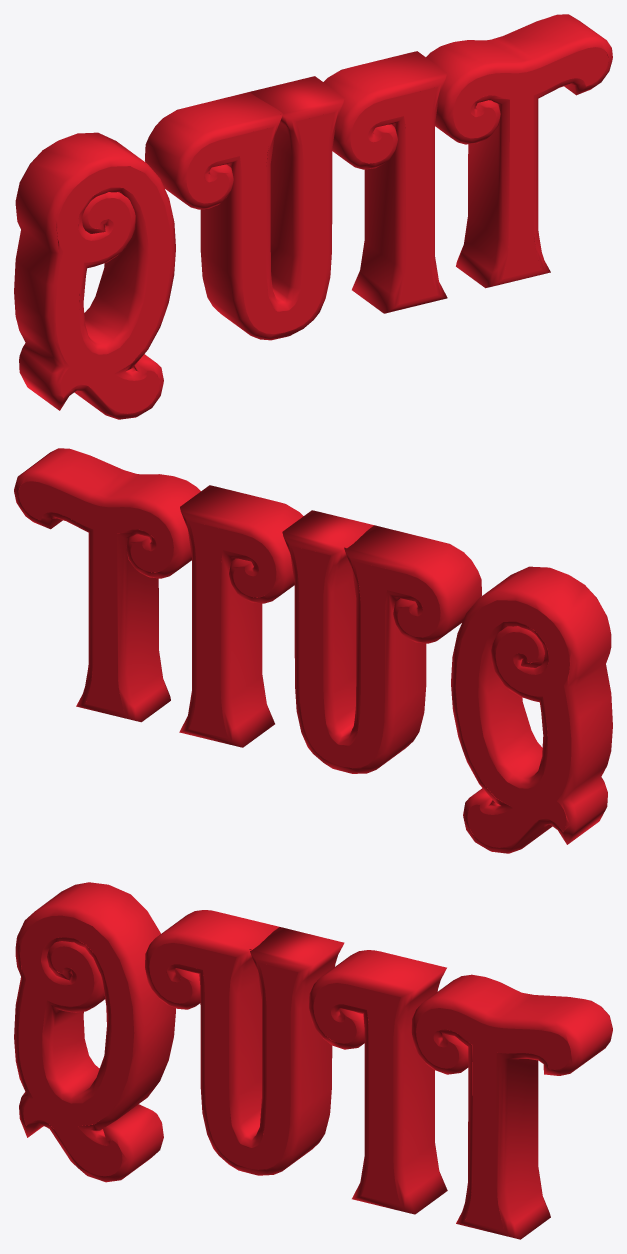
The model's file is QuitText.fbx.
3 renders of one model, top to bottom at view 1: azimuth 30°, elevation 25°; view 2: azimuth 150°, elevation 25°; view 3: azimuth 330°, elevation 25°, orthographic.
Visible parts, largest first — view 1: Text.001; view 2: Text.001; view 3: Text.001.
Boxes of the visible parts, left/top/right/bottom form: Text.001: left=14, top=14, right=612, bottom=419; Text.001: left=14, top=448, right=612, bottom=853; Text.001: left=14, top=882, right=612, bottom=1239.
Size of the model in its own units: 142 by 64.49 by 16.22.
